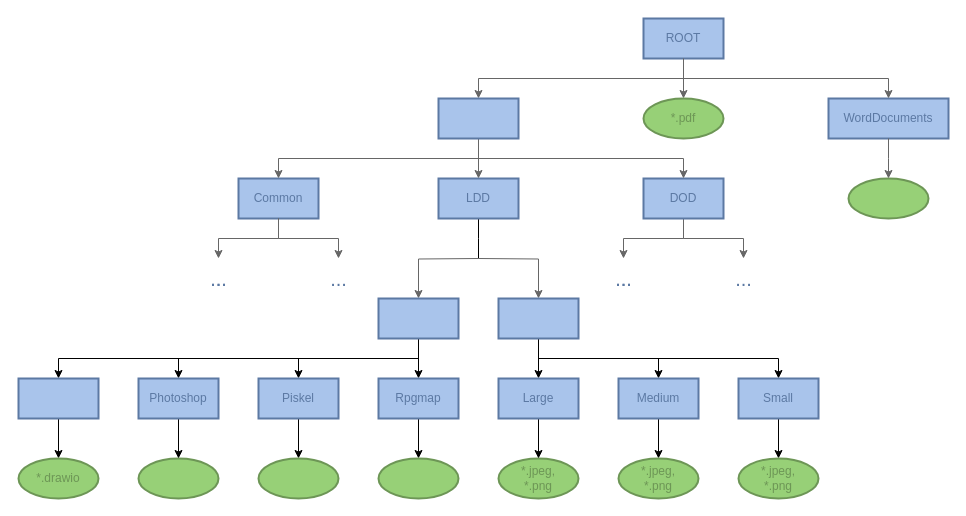
Image size: 966x516. Some labels were removed from this diagram. The shapes that lost their labels are listed below. From the top down, each one's centre as x and y in pixels, then its label:
At [478,118]: "Images".
At [888,198]: "*.docx".
At [418,318]: "Project".
At [538,318]: "Raw".
At [58,398]: "Drawio".
At [178,478]: "*.psd".
At [298,478]: "*.piskel".
At [418,478]: "*.json".
